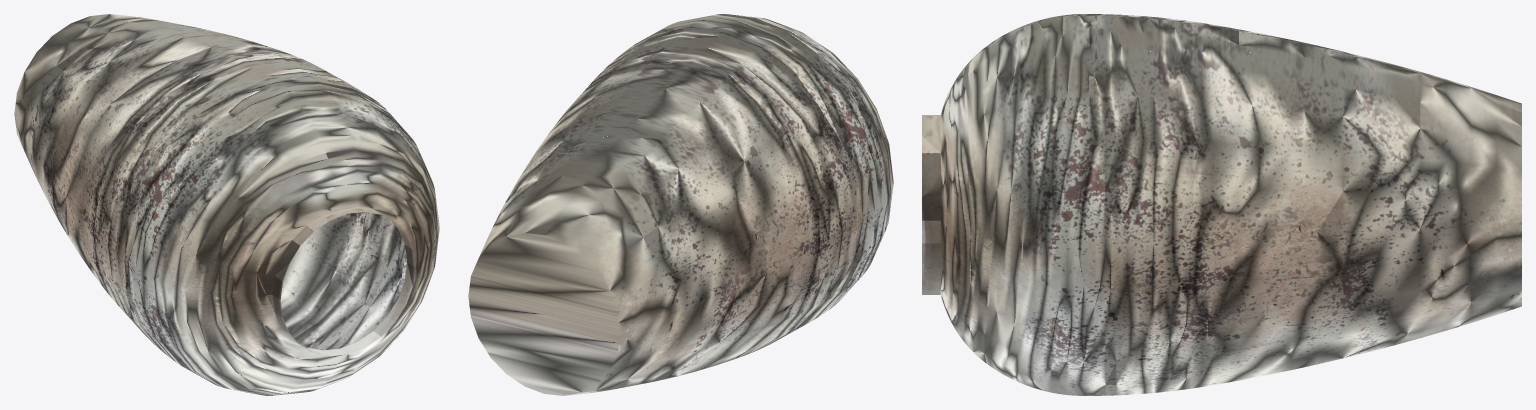
The model's file is model_align.obj.
The picture shows the model from 3 angles, left to right: view 1: azimuth 30°, elevation 25°; view 2: azimuth 150°, elevation 25°; view 3: azimuth 270°, elevation 25°; orthographic projection. The views are drawn at different scales.
Bounding box in the file's own units: 0.0717 × 0.0717 × 0.1122.
Materials: 1 (1 with a texture image).
